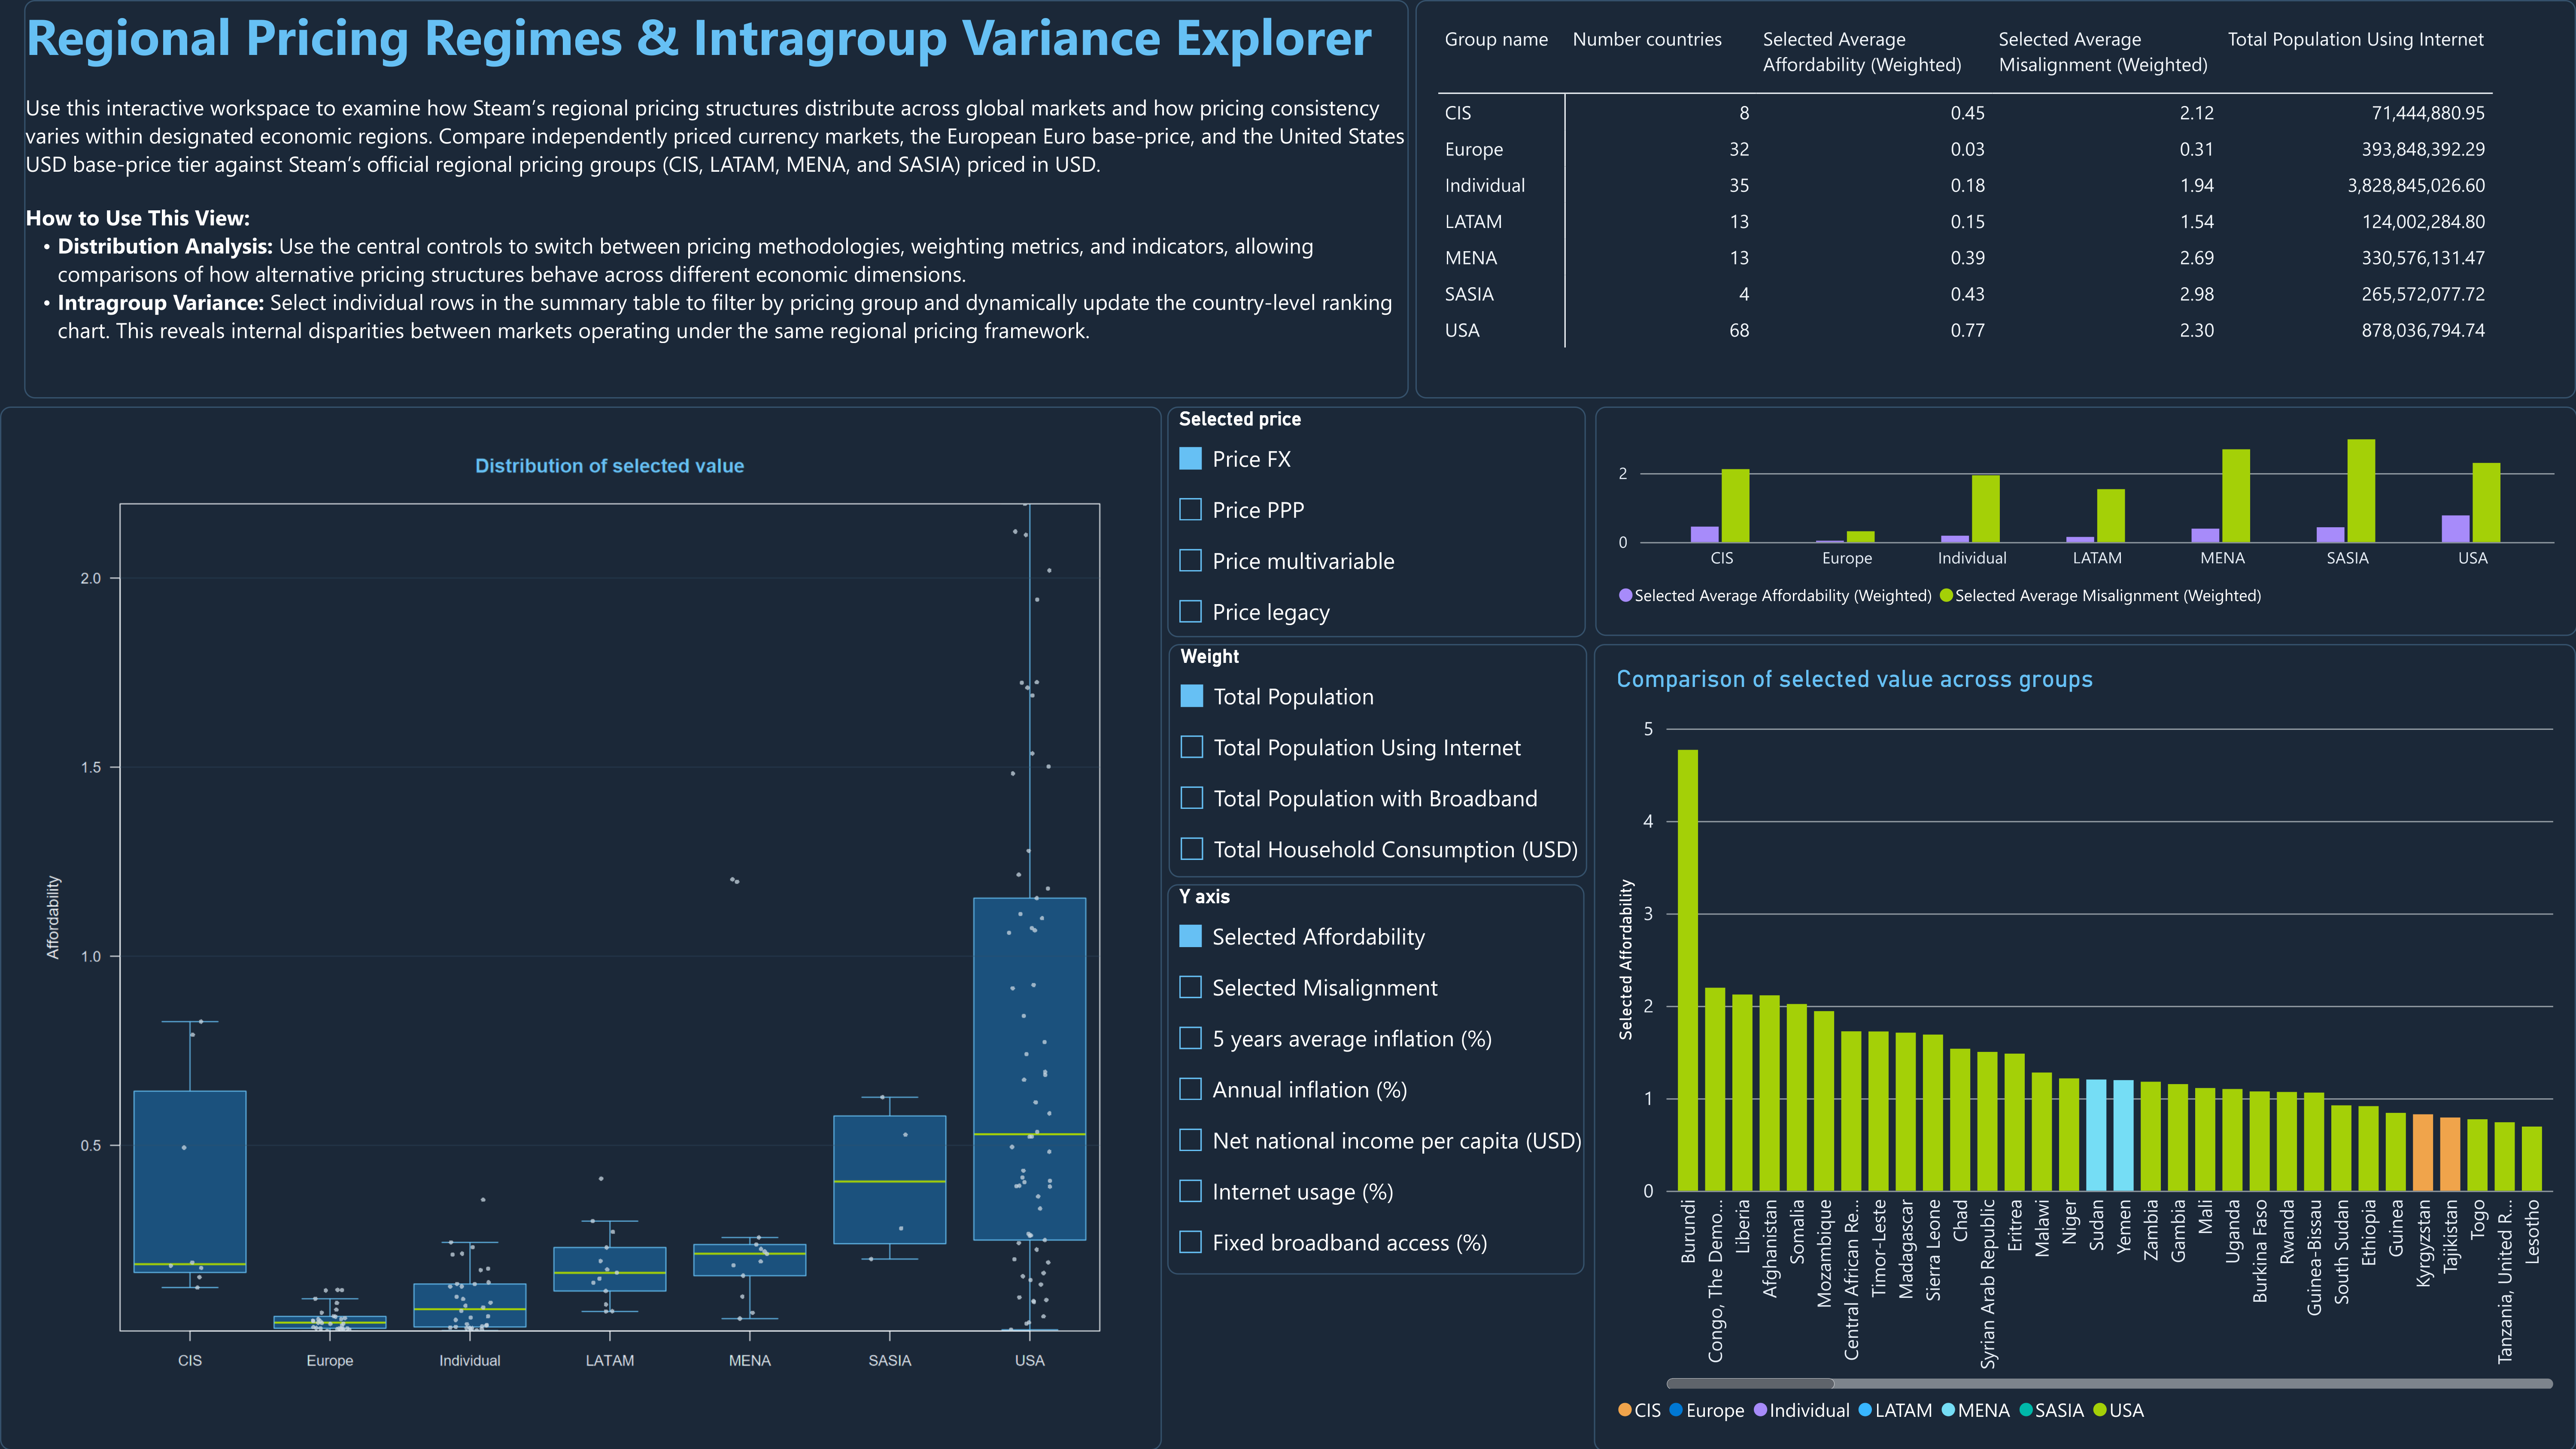

This screenshot's page, from the dashboard's own definition file:
{"tool":"powerbi","page":{"name":"Pricing regimes comparison","canvas":[1920,1080],"ordinal":2},"visuals":[{"type":"scriptVisual","title":"Distribution of selected value","fields":{"Values":["steam_regional_pricing_dataset.group_name","steam_regional_pricing_dataset.Selected Affordability","steam_regional_pricing_dataset.iso3"]},"box":[0,302.9,865.7,778.6],"z":0},{"type":"slicer","fields":{"Values":["Paramètre.Paramètre"]},"box":[870,302.9,311.7,171.7],"z":4000},{"type":"columnChart","title":"Comparison of selected value across groups","fields":{"Category":["steam_regional_pricing_dataset.country_name"],"Series":["steam_regional_pricing_dataset.group_name"],"Y":["steam_regional_pricing_dataset.Selected Affordability"]},"box":[1188.3,480,731.7,601.7],"z":6000},{"type":"textbox","box":[18.3,0,1031.7,296.7],"z":9000},{"type":"pivotTable","fields":{"Rows":["steam_regional_pricing_dataset.group_name"],"Values":["CountNonNull(steam_regional_pricing_dataset.iso3)","steam_regional_pricing_dataset.Selected Average Affordability (Weighted)","steam_regional_pricing_dataset.Selected Average Misalignment (Weighted)","steam_regional_pricing_dataset.Total Population Using Internet"]},"box":[1055,0,865,296.7],"z":10000},{"type":"slicer","fields":{"Values":["Weight.Weight"]},"box":[871.4,480,311.4,173.6],"z":11000},{"type":"lineClusteredColumnComboChart","fields":{"Category":["steam_regional_pricing_dataset.group_name"],"Y":["steam_regional_pricing_dataset.Selected Average Affordability (Weighted)","steam_regional_pricing_dataset.Selected Average Misalignment (Weighted)"]},"box":[1188.6,302.9,732.9,171.4],"z":12000},{"type":"slicer","fields":{"Values":["boxplot parameter.boxplot parameter"]},"box":[870,658.6,311.4,291.4],"z":13000}]}

Visuals, with their boxes in screenshot pixels (x1, y1, x2, y2), scaled from the page's 1920x1080 canvas onto the 2576x1449 screenshot:
"Distribution of selected value" scriptVisual: (0, 407, 1161, 1449)
slicer - Paramètre.Paramètre: (1167, 407, 1586, 637)
"Comparison of selected value across groups" columnChart: (1594, 644, 2576, 1449)
textbox: (24, 0, 1409, 398)
pivotTable - steam_regional_pricing_dataset.group_name x CountNonNull(steam_regional_pricing_dataset.iso3): (1416, 0, 2576, 398)
slicer - Weight.Weight: (1169, 644, 1587, 877)
lineClusteredColumnComboChart - steam_regional_pricing_dataset.group_name x steam_regional_pricing_dataset.Selected Average Affordability (Weighted): (1595, 407, 2576, 636)
slicer - boxplot parameter.boxplot parameter: (1167, 884, 1585, 1275)
